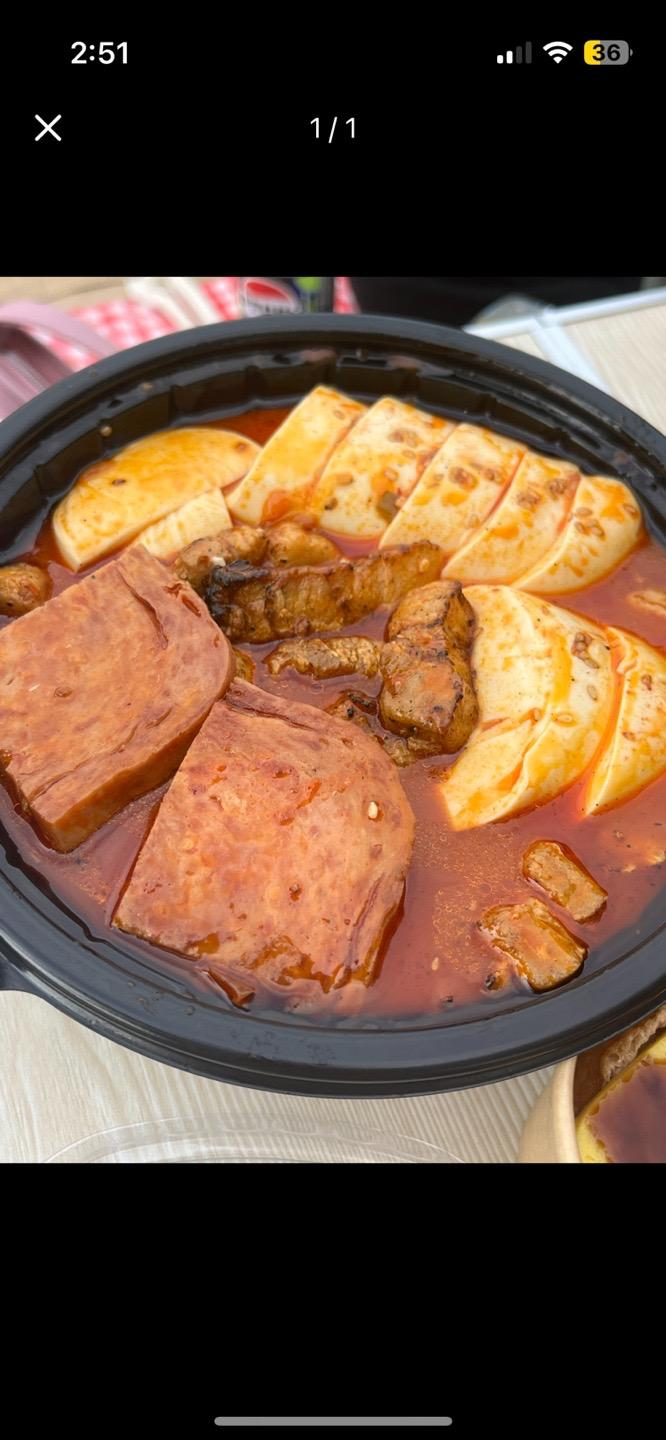Lunch Box: (0, 315, 665, 1094)
